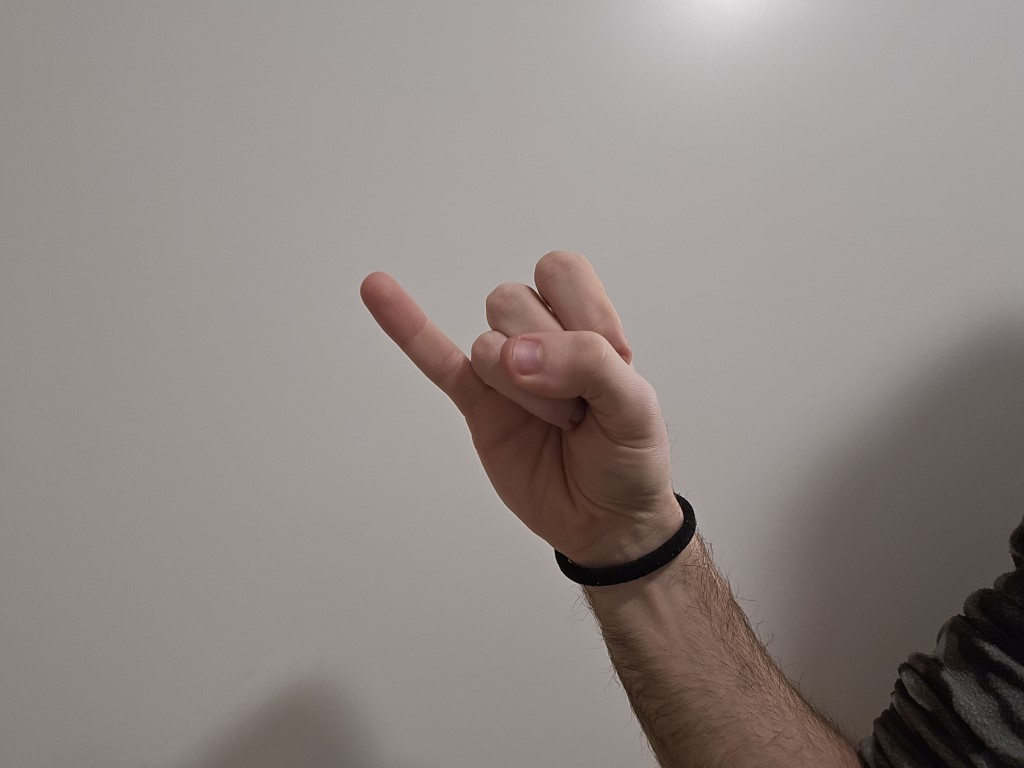j: (339, 237, 670, 543)
